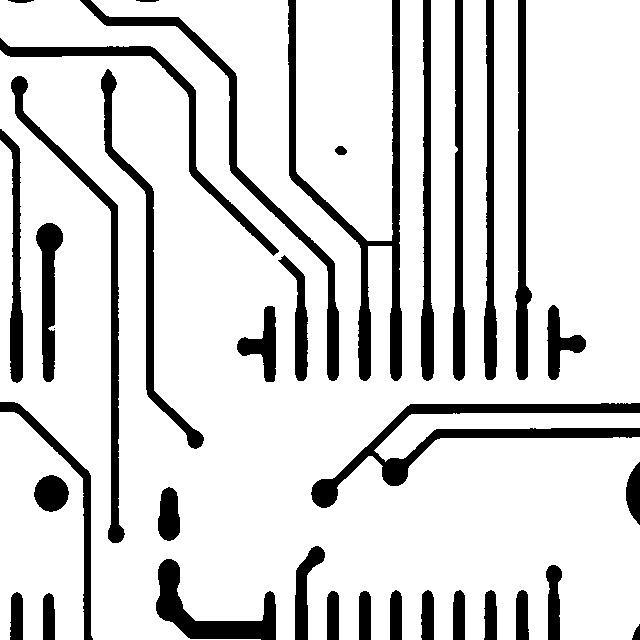copper: (325, 136, 356, 164)
mousebite: (441, 135, 467, 162), (38, 315, 66, 340)
open: (262, 240, 294, 269)
short: (357, 441, 397, 477), (355, 231, 405, 255)
